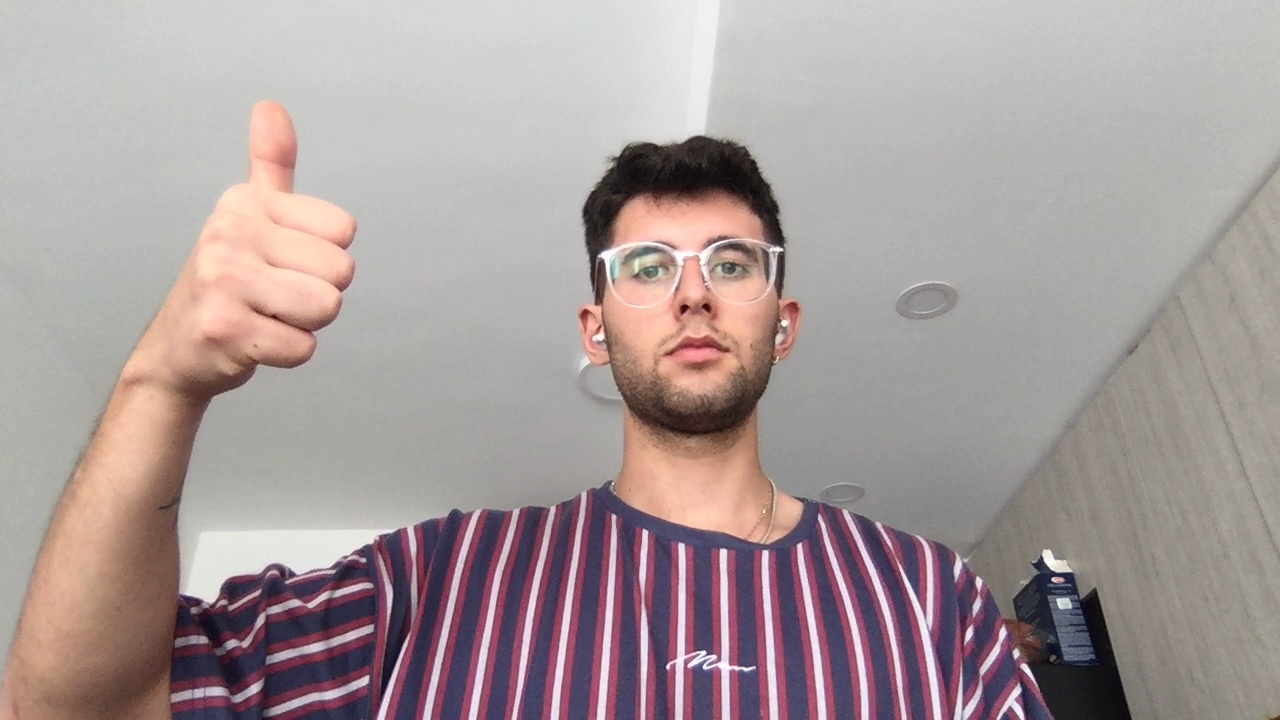good: (153, 90, 375, 398)
